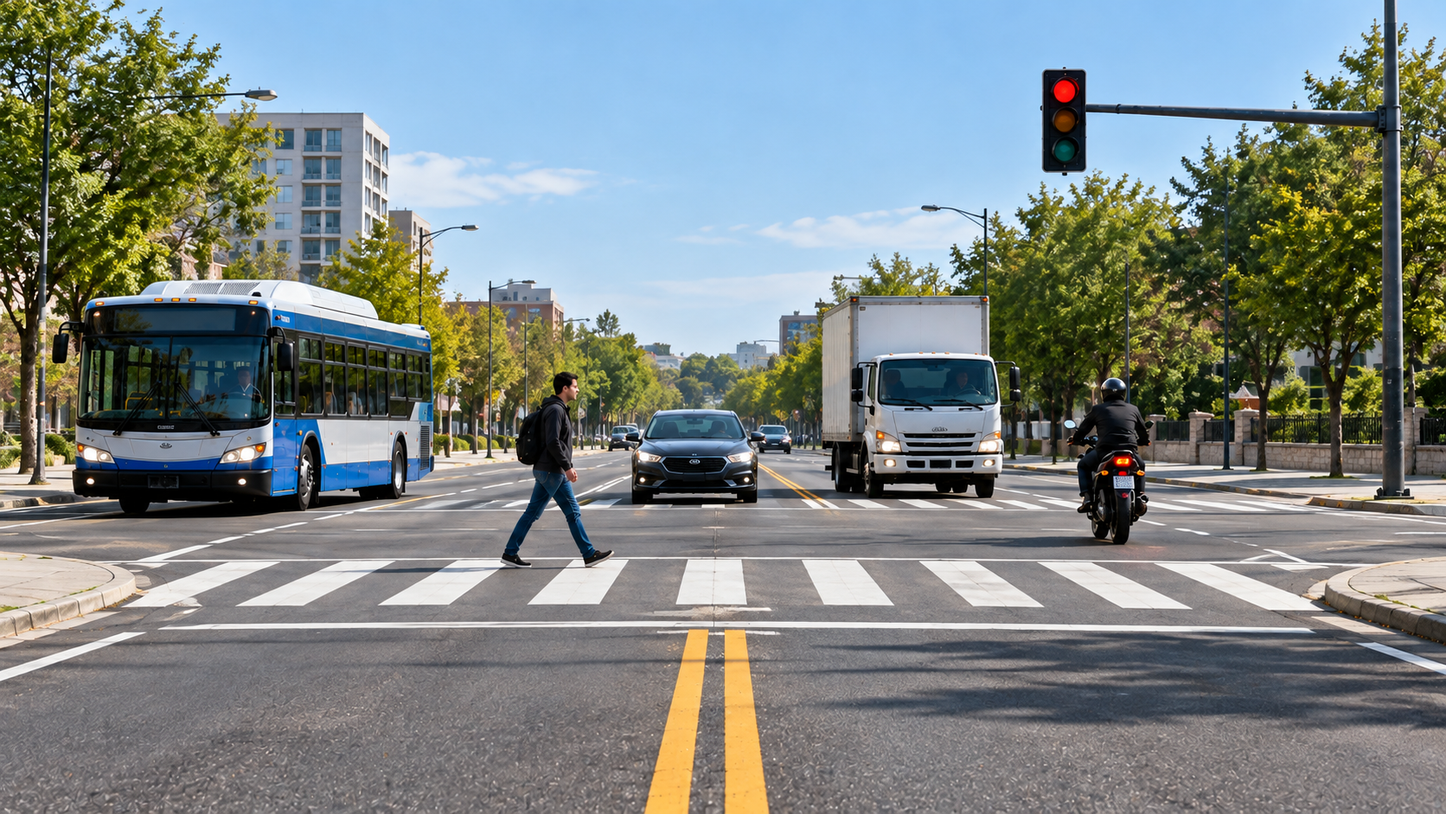bus: (53, 277, 443, 516)
car: (626, 410, 764, 506), (759, 419, 797, 451)
motorcycle: (1059, 453, 1161, 551)
person: (497, 370, 615, 567), (1068, 375, 1159, 503)
traffic_light: (1040, 67, 1088, 173)
truck: (817, 292, 1021, 502)
zebra_crossing: (0, 495, 1445, 623)
